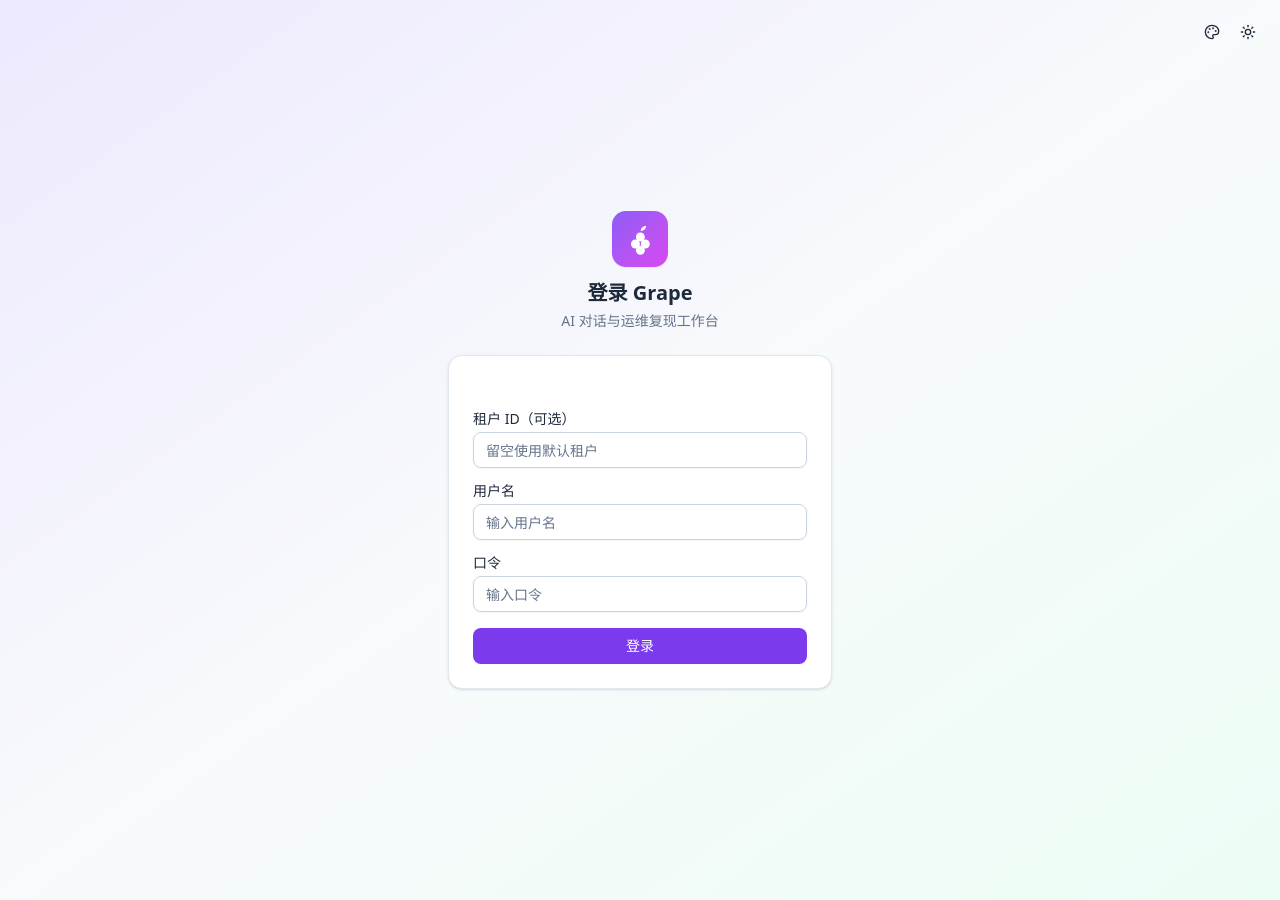
Test: LoginPage › shows the backend error message when login fails
The width and height of the screenshot is (1280, 900).
Type "alice" into the field labelled "用户名" at point(640, 522), box [473, 504, 807, 540]
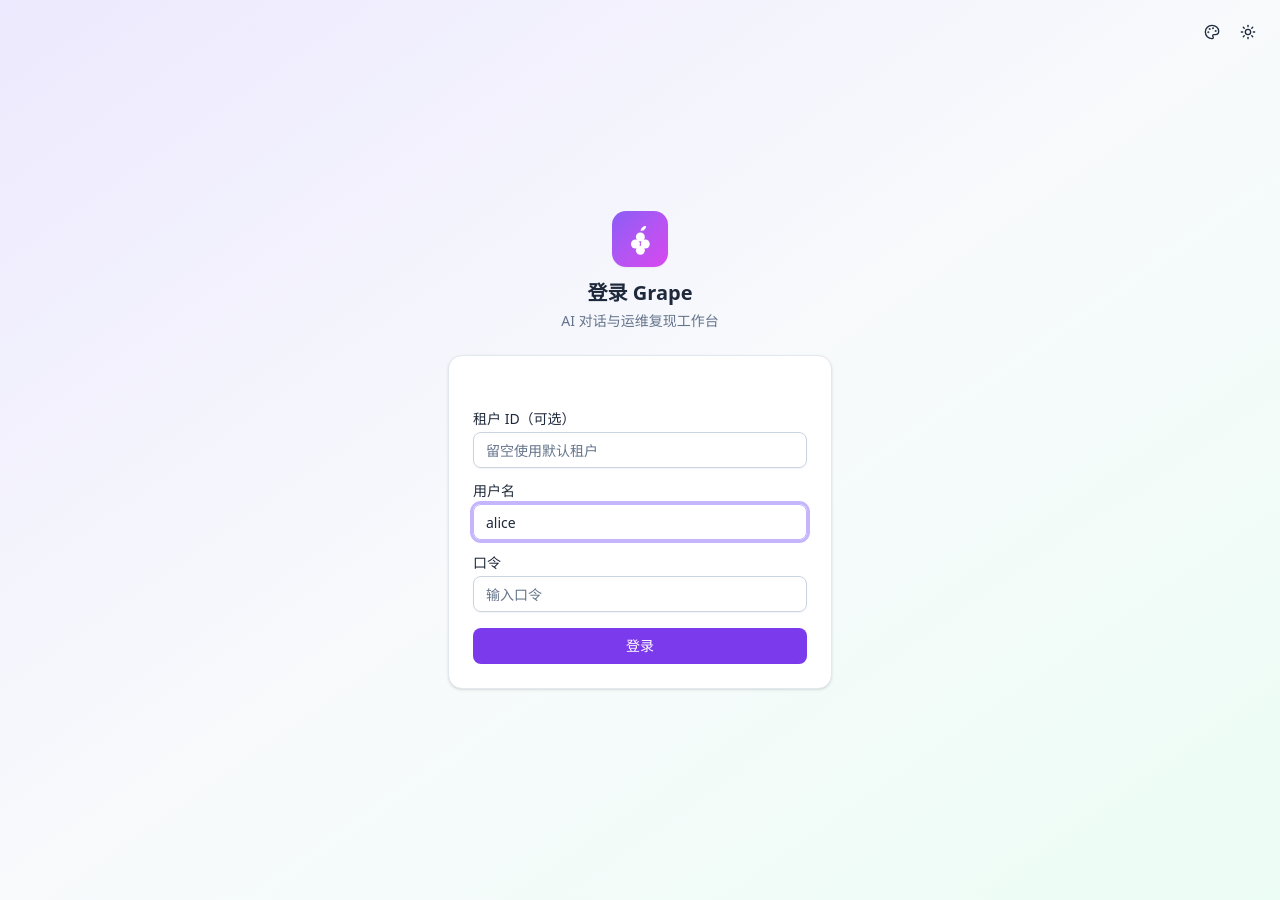
Type "wrong" into the password field labelled "口令" at point(640, 594), box [473, 576, 807, 612]
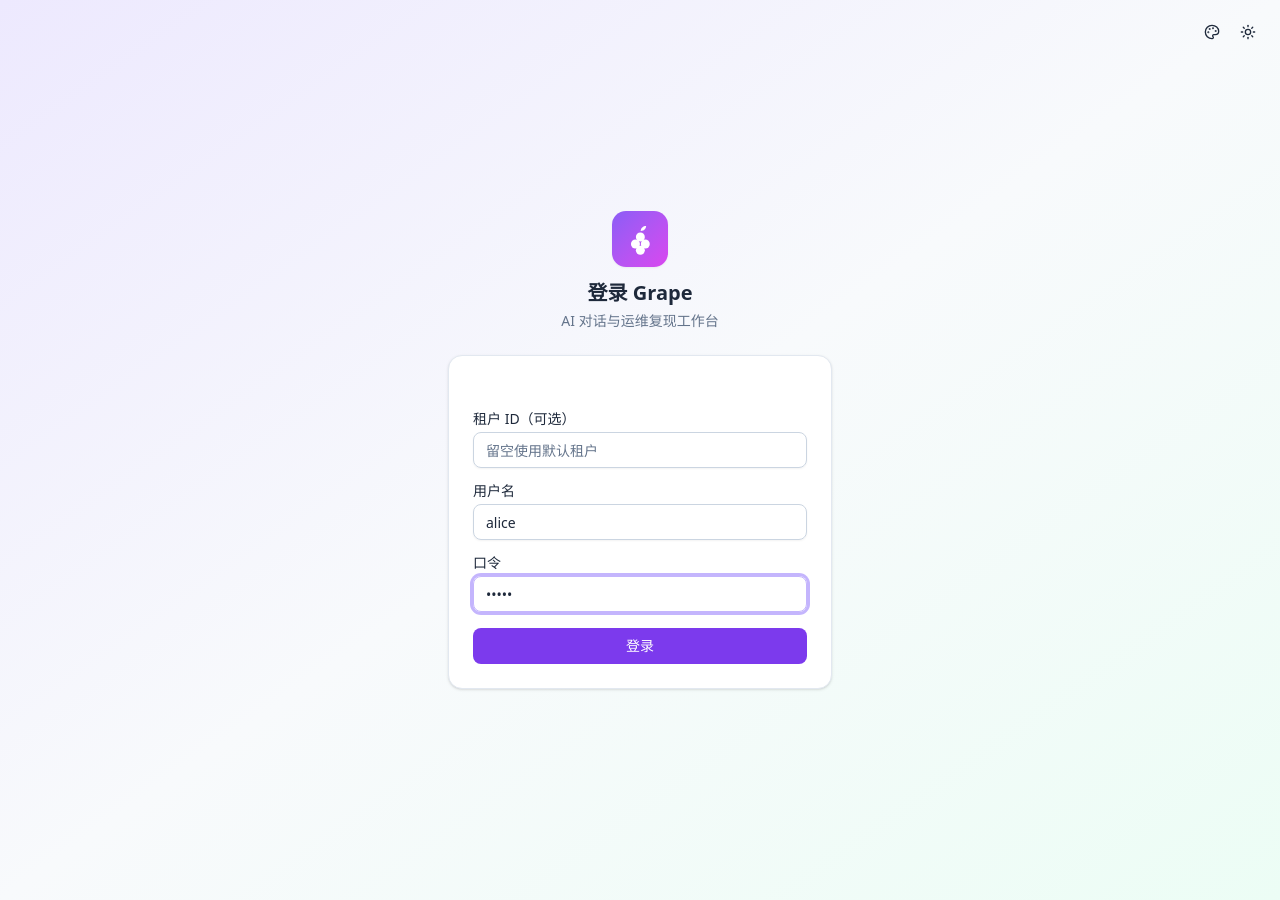
Click the button "登录" at point(640, 646), box [473, 628, 807, 664]
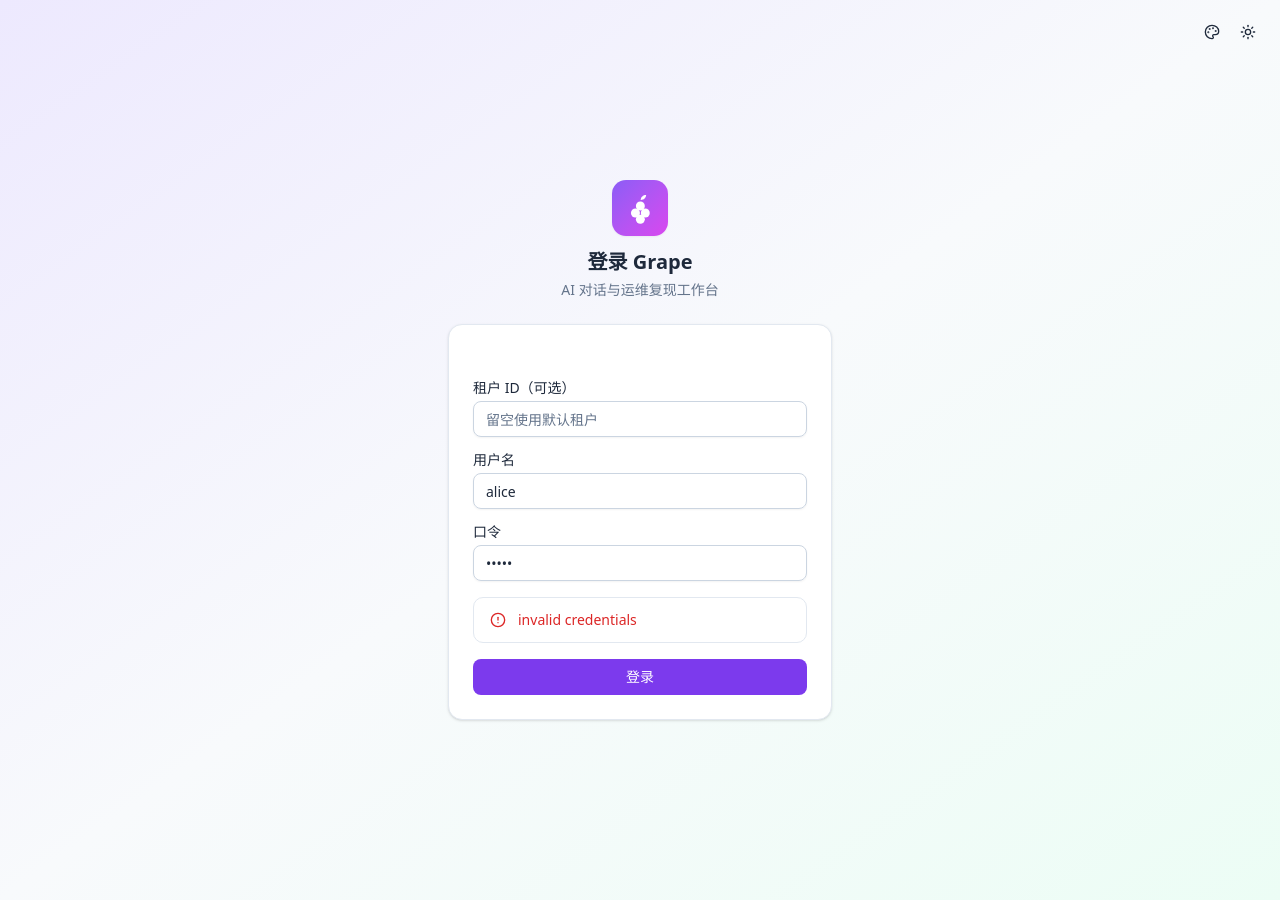
Now the message reads "invalid credentials", box [518, 610, 637, 629]
